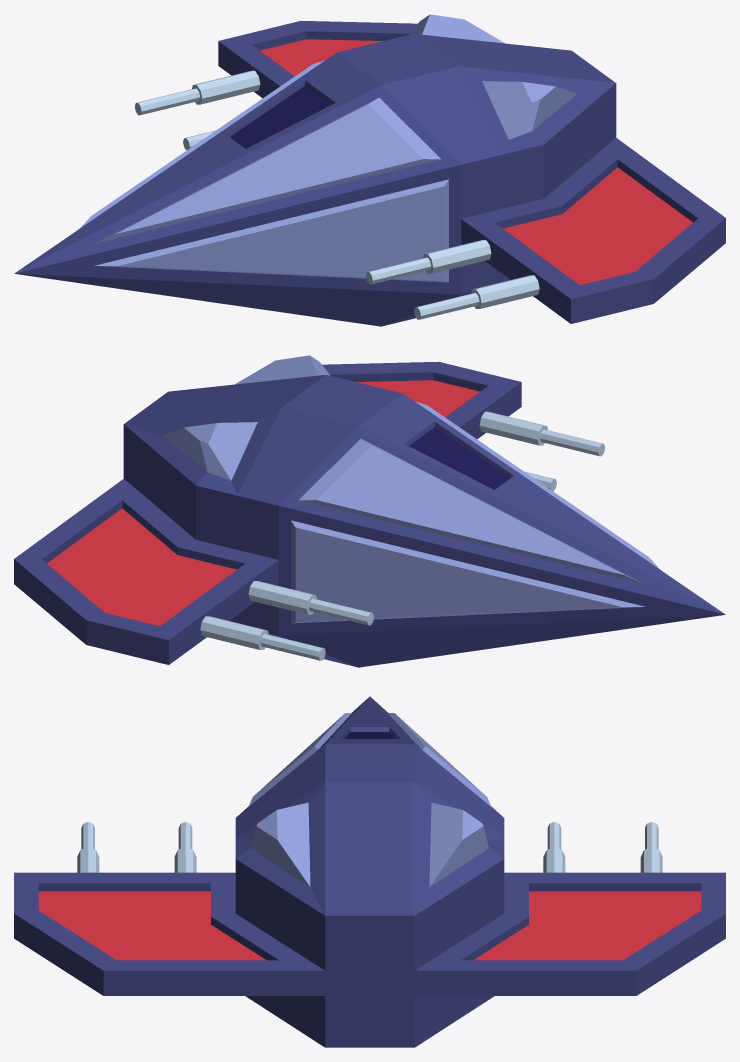
File: Blaster.fbx
3 views of the same model, one above another, from view 1: azimuth 30°, elevation 25°; view 2: azimuth 150°, elevation 25°; view 3: azimuth 270°, elevation 25° (orthographic).
Visible parts, largest first — view 1: blaster; view 2: blaster; view 3: blaster.
Boxes of the visible parts, x1,y1,x2,y2 form: blaster: [14, 14, 725, 326]; blaster: [14, 355, 725, 667]; blaster: [14, 696, 725, 1047].
Bounding box in the file's own units: 322 × 128 × 339.
